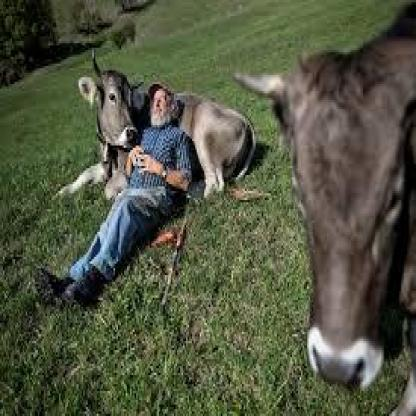cow: (263, 40, 416, 396), (48, 69, 259, 206)
